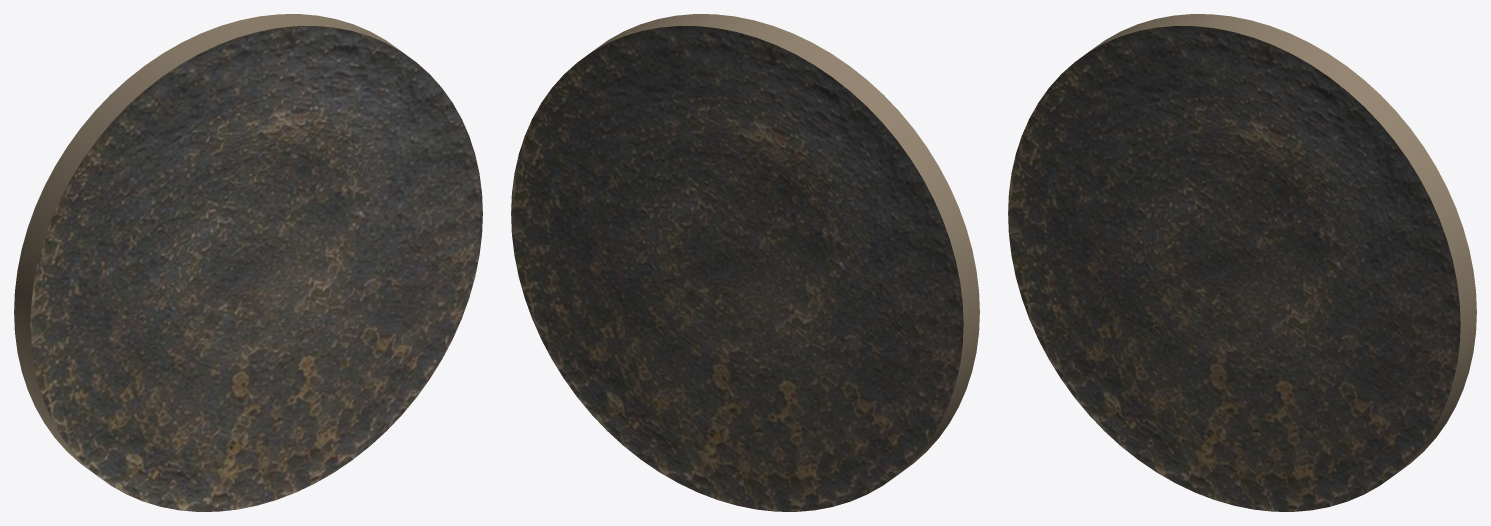
Rendered from chieng-mau.glb.
The picture shows the model from 3 angles, left to right: view 1: azimuth 30°, elevation 25°; view 2: azimuth 150°, elevation 25°; view 3: azimuth 330°, elevation 25°; orthographic projection.
Bounding box in the file's own units: 0.8 × 0.8 × 0.05.
Materials: 2 (1 with a texture image).
